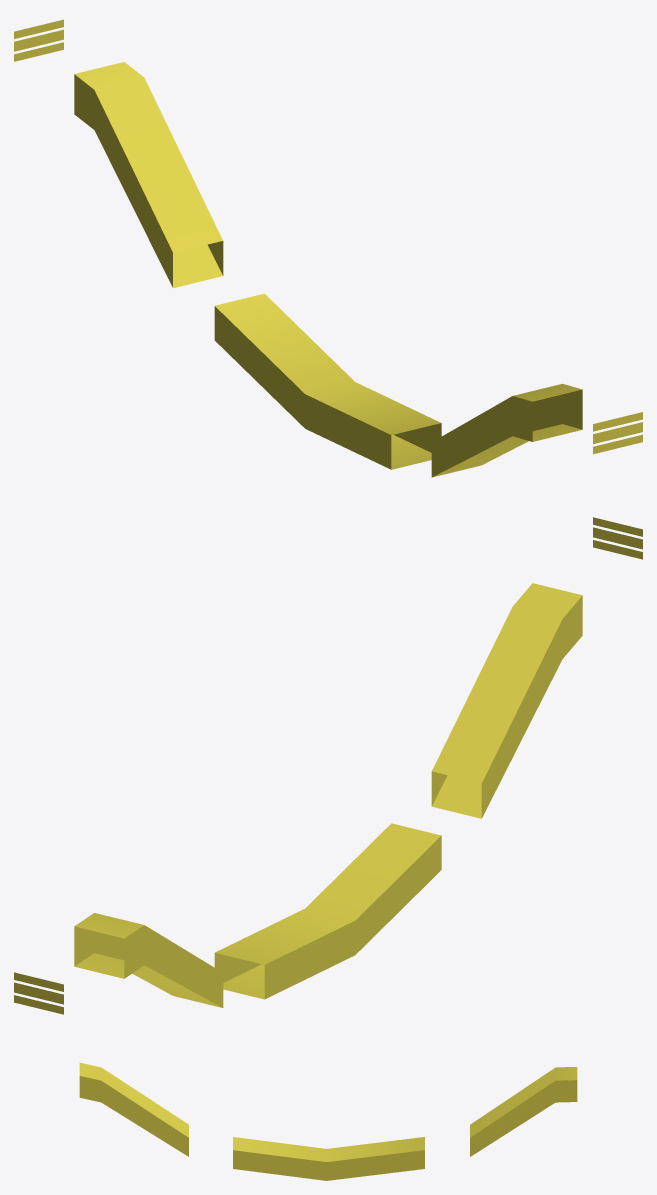
Rendered from Weapon_Shoot_L2.FBX.
3 renders of one model, top to bottom at view 1: azimuth 30°, elevation 25°; view 2: azimuth 150°, elevation 25°; view 3: azimuth 270°, elevation 25°, orthographic. The views are drawn at different scales.
Parts seen in each view (by area): view 1: Box001; view 2: Box001; view 3: Box001.
Boxes of the visible parts, <box> form: Box001: <box>14,19,642,477</box>; Box001: <box>14,517,642,1014</box>; Box001: <box>79,1062,577,1180</box>.
Size of the model in its own units: 2.55 by 10.71 by 51.01.
1 material, 1 textured.
